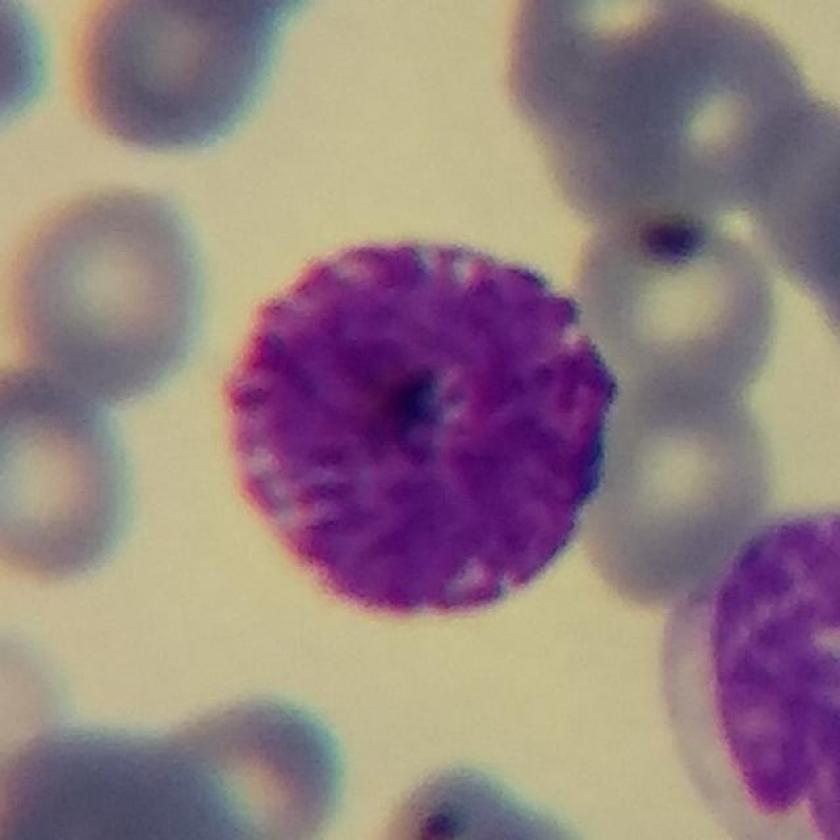basophil: (228, 235, 623, 627)
